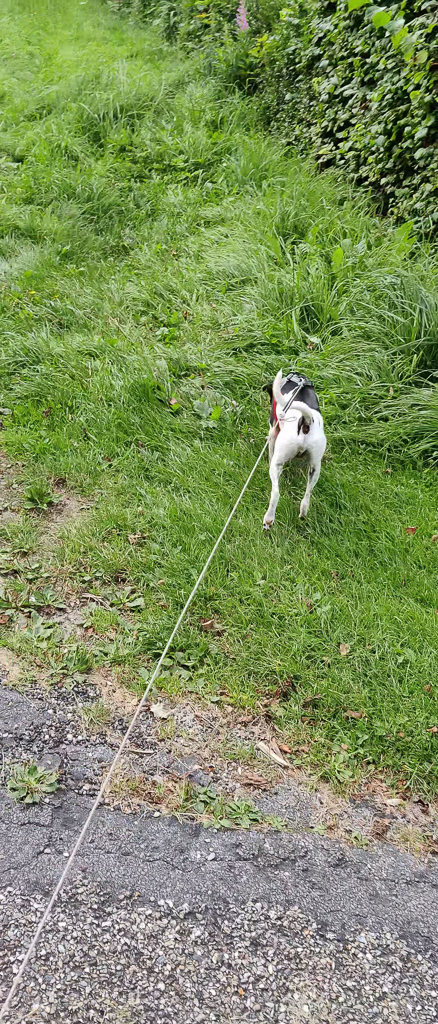Dog: (242, 356, 342, 540)
